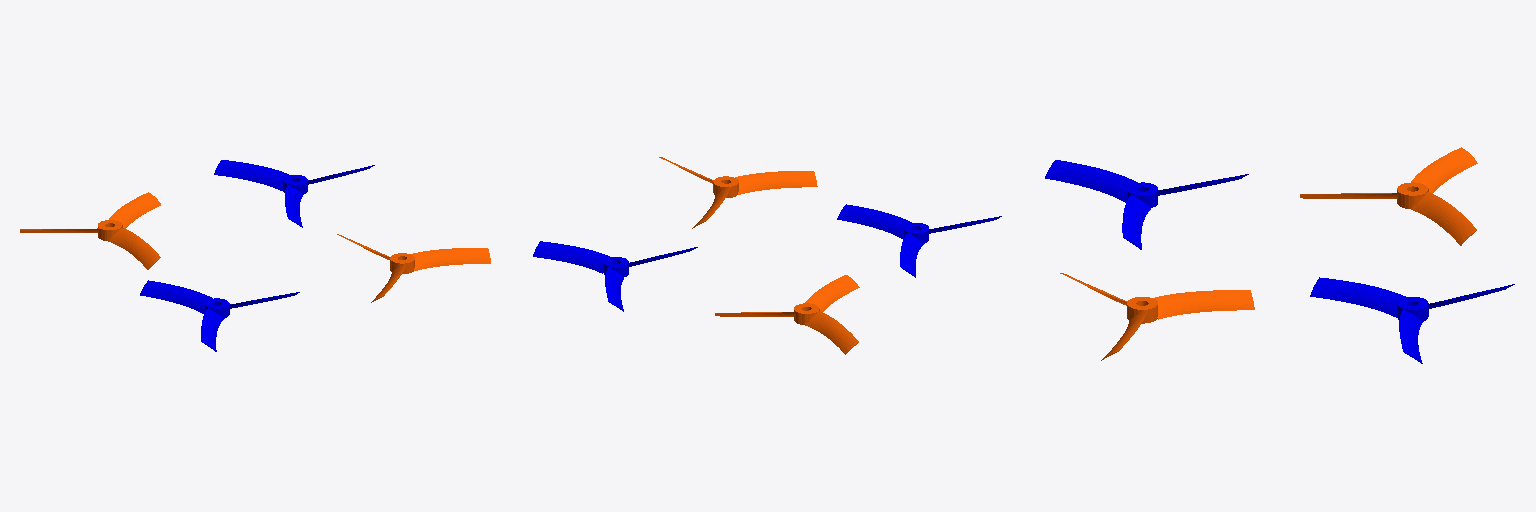
The robot description file, URDF, robot "quadrotor":
<?xml version="1.0"?>
<robot name="quadrotor">
  <link name="base_link">
    <visual>
      <origin xyz="0. 0. 0." rpy="0. 0. 3.14"/>
      <geometry>
        <mesh filename="meshes/body_visuals.obj" scale="1. 1. 1."/>
      </geometry>
      <material name="White">
        <color rgba="1 1 1 1.0"/>
      </material>
    </visual>
    <collision>
      <origin xyz="0 0 0"/>
      <geometry>
        <sphere radius="0.2"/>
      </geometry>
    </collision>
    <inertial>
      <!-- <mass value="0.295"/> -->
      <mass value="0.585"/>
      <inertia ixx="0.0347563" ixy="0.0" ixz="0.0" iyy="0.0458929" iyz="0.0" izz="0.0977"/>
    </inertial>
  </link>
  <link name="prop_1">
    <visual>
      <origin xyz="0 0 0" rpy="1.57 0. 0."/>
      <geometry>
        <mesh filename="meshes/m1_prop_visuals.obj" scale="1. 1. 1."/>
      </geometry>
      <material name="Orange">
        <color rgba="1 0.423 0.03921568627 1.0"/>
      </material>
    </visual>
    <inertial>
      <mass value="0.004"/>
      <inertia ixx="0.000001" ixy="0.0" ixz="0.0" iyy="0.000001" iyz="0.0" izz="0.000001"/>
    </inertial>
  </link>
  <link name="prop_2">
    <visual>
      <origin xyz="0 0 0" rpy="1.57 0. 0."/>
      <geometry>
        <mesh filename="meshes/m2_prop_visuals.obj" scale="1. 1. 1."/>
      </geometry>
      <material name="Orange">
        <color rgba="1.0 0.423 0.03921568627 1.0"/>
      </material>
    </visual>
    <inertial>
      <mass value="0.004"/>
      <inertia ixx="0.000001" ixy="0.0" ixz="0.0" iyy="0.000001" iyz="0.0" izz="0.000001"/>
    </inertial>
  </link>
  <link name="prop_3">
    <visual>
      <origin xyz="0 0 0" rpy="1.57 0. 0."/>
      <geometry>
        <mesh filename="meshes/m3_prop_visuals.obj" scale="1. 1. 1."/>
      </geometry>
      <material name="Blue">
        <color rgba="0 0 1 1.0"/>
      </material>
    </visual>
    <inertial>
      <mass value="0.004"/>
      <inertia ixx="0.000001" ixy="0.0" ixz="0.0" iyy="0.000001" iyz="0.0" izz="0.000001"/>
    </inertial>
  </link>
  <link name="prop_4">
    <visual>
      <origin xyz="0 0 0" rpy="1.57 0. 0."/>
      <geometry>
        <mesh filename="meshes/m4_prop_visuals.obj" scale="1. 1. 1."/>
      </geometry>
      <material name="Blue">
        <color rgba="0 0 1 1.0"/>
      </material>
    </visual>
    <inertial>
      <mass value="0.004"/>
      <inertia ixx="0.000001" ixy="0.0" ixz="0.0" iyy="0.000001" iyz="0.0" izz="0.000001"/>
    </inertial>
  </link>
  <joint name="base_link2prop_1" type="fixed" dont_collapse="true">    
    <parent link="base_link"/>    
    <child link="prop_1"/>    
    <origin xyz="0.05374 -0.05374 0.024 "/>  
  </joint>
  <joint name="base_link2prop_2" type="fixed" dont_collapse="true">    
    <parent link="base_link"/>    
    <child link="prop_2"/>    
    <origin xyz="-0.05374 0.05374 0.024" />
  </joint>
  <joint name="base_link2prop_3" type="fixed" dont_collapse="true">    
    <parent link="base_link"/>    
    <child link="prop_3"/>    
    <origin xyz="0.05374 0.05374 0.024 "/> 
  </joint>
  <joint name="base_link2prop_4" type="fixed" dont_collapse="true">    
    <parent link="base_link"/>    
    <child link="prop_4"/>    
    <origin xyz="-0.05374 -0.05374 0.024 "/> 
  </joint>
</robot>

--- Render facts (derived) ---
3 views of the same robot in one strip: view 1: azimuth 30°, elevation 25°; view 2: azimuth 150°, elevation 25°; view 3: azimuth 270°, elevation 25° (orthographic).
Robot: quadrotor — 5 links, 4 joints (4 fixed); root link base_link; default pose: every joint at zero.
Visible links, largest first — view 1: prop_2, prop_4, prop_3, prop_1; view 2: prop_2, prop_4, prop_3, prop_1; view 3: prop_2, prop_4, prop_3, prop_1.
Boxes of the visible links, x1,y1,x2,y2 form: prop_2: (20, 192, 160, 269); prop_4: (140, 280, 299, 351); prop_3: (214, 160, 374, 227); prop_1: (337, 234, 490, 302); prop_2: (715, 275, 859, 354); prop_4: (837, 204, 1001, 277); prop_3: (533, 241, 697, 311); prop_1: (659, 157, 817, 228); prop_2: (1300, 147, 1477, 245); prop_4: (1045, 160, 1248, 249); prop_3: (1310, 277, 1514, 363); prop_1: (1060, 273, 1254, 360).
Bounding box of the posed robot: 0.1933 × 0.1873 × 0.0064 m (x, y, z).
4 mesh visuals loaded from 5 distinct referenced files (4 OBJ); not drawn: 1 (reference not matched to a file when rendering).
